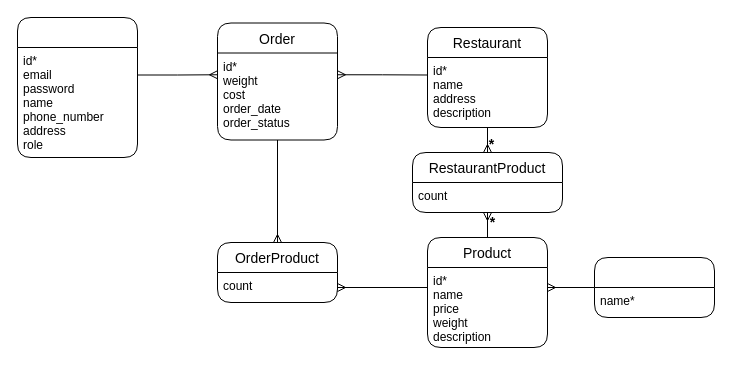
This 732x365 diagram has some shape labels left out. Each missing label, with the box of its shape:
Category: (594, 256, 714, 318)
Person: (16, 16, 138, 158)
